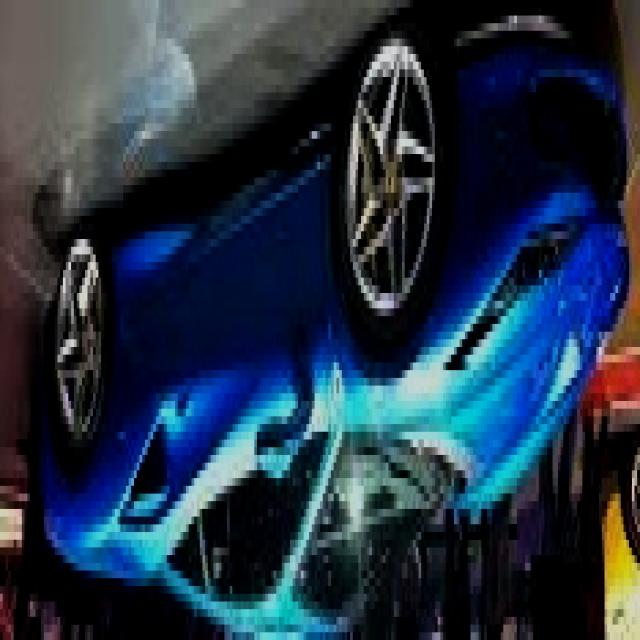blue: (35, 11, 632, 638)
